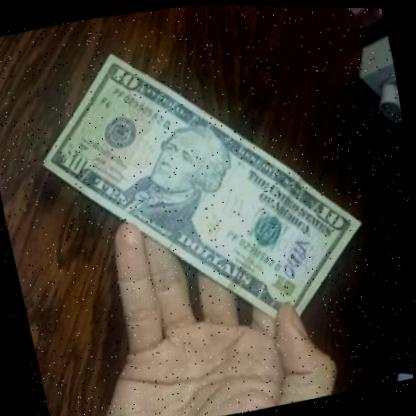ten-front: (11, 0, 387, 384)
